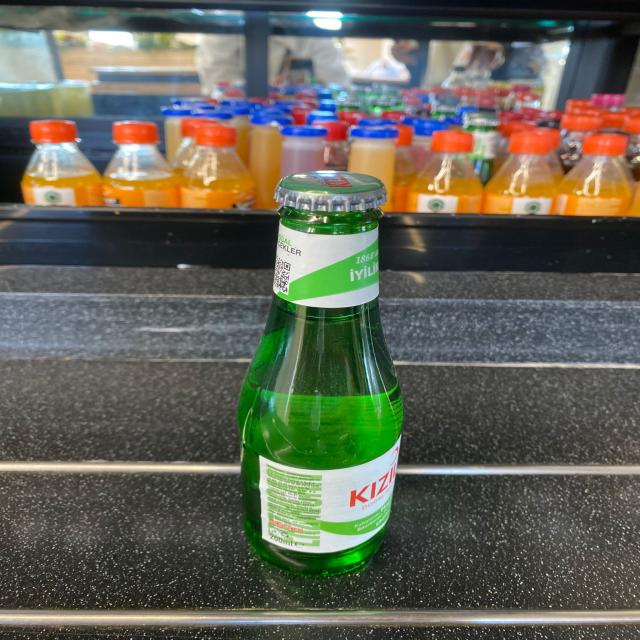yan_yemek: (235, 169, 405, 578)
